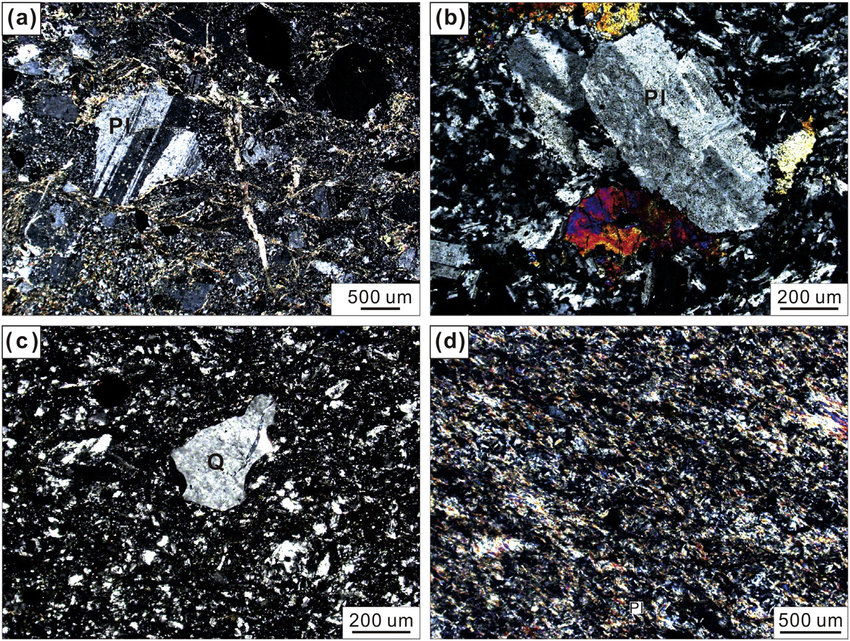volcanic_rock: (489, 12, 841, 273), (65, 12, 411, 277), (476, 334, 848, 579), (48, 349, 400, 584)
